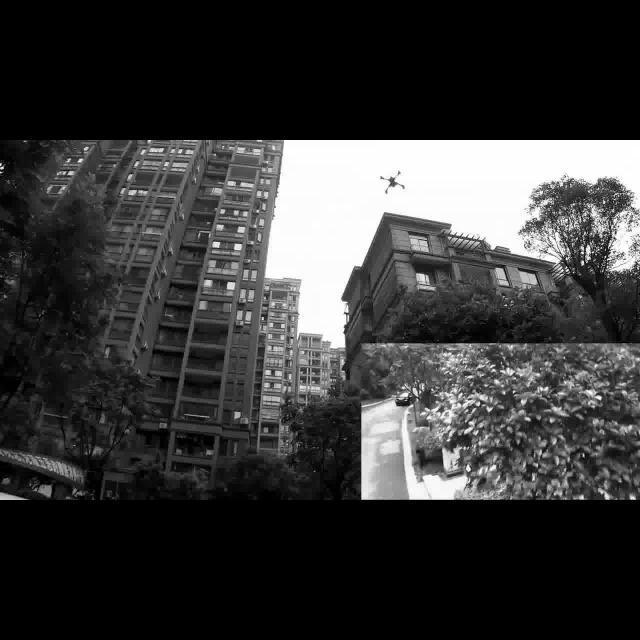Drons: (375, 168, 410, 198)
